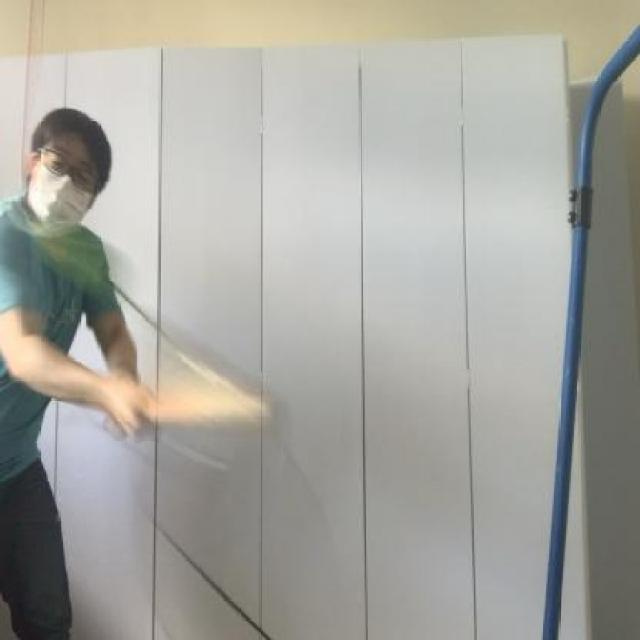baseball: (25, 220, 117, 308)
